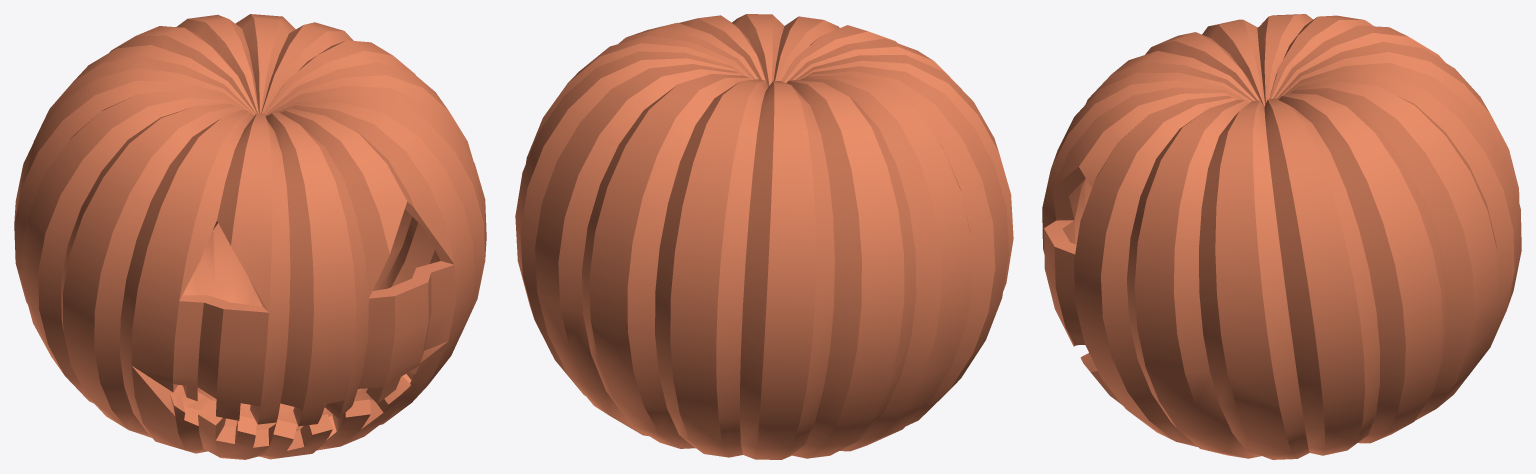
File: Pumpkin_Helloween.fbx
3 renders of one model, left to right at view 1: azimuth 30°, elevation 25°; view 2: azimuth 150°, elevation 25°; view 3: azimuth 270°, elevation 25°, orthographic. The views are drawn at different scales.
Parts seen in each view (by area): view 1: Pumpkin; view 2: Pumpkin; view 3: Pumpkin.
Boxes of the visible parts, x1,y1,x2,y2 form: Pumpkin: [14, 14, 486, 459]; Pumpkin: [515, 14, 1013, 459]; Pumpkin: [1042, 14, 1521, 459].
Size of the model in its own units: 65.54 by 54.46 by 65.31.
